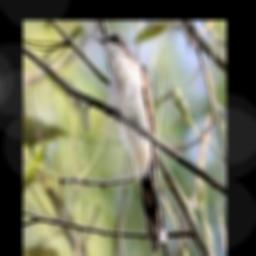Cuckoo: (93, 33, 168, 255)
